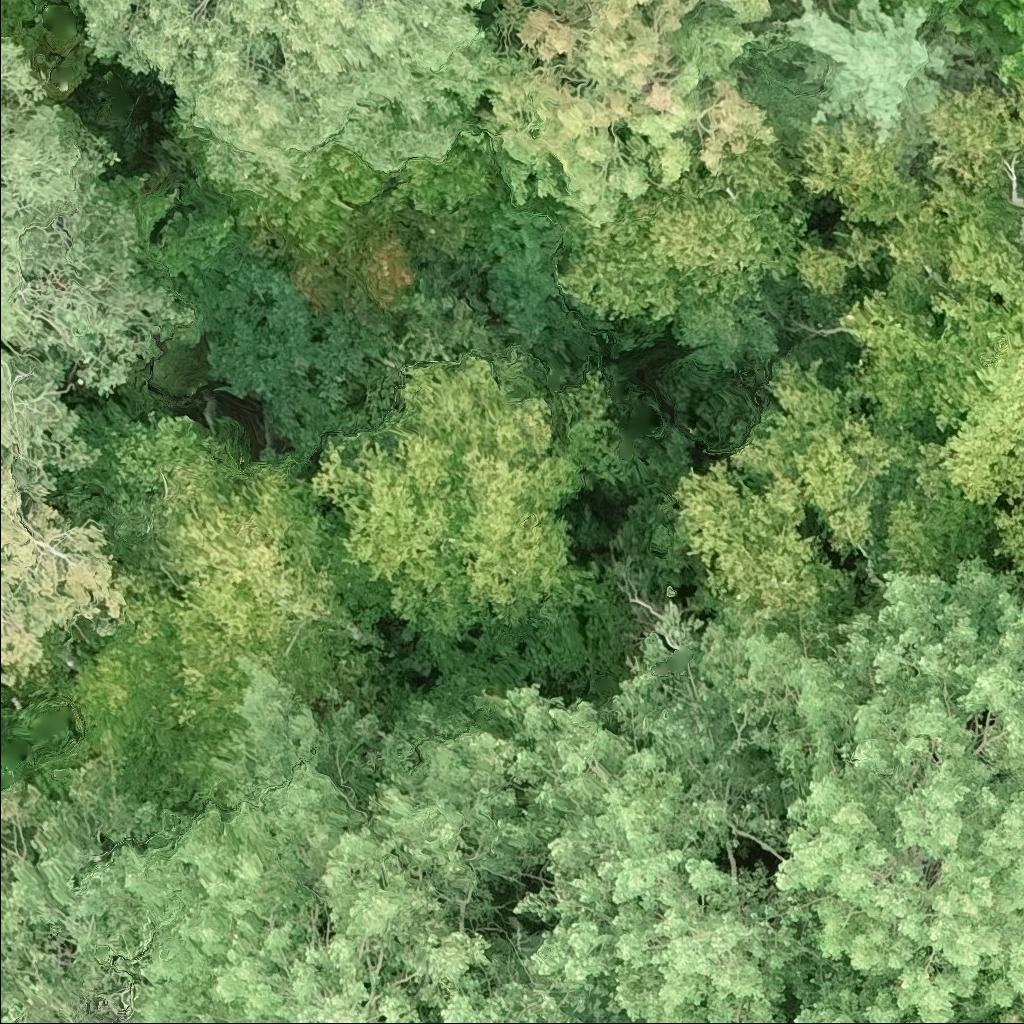crown: (118, 659, 545, 1023), (695, 551, 1023, 1023), (39, 402, 399, 823), (480, 585, 818, 1023), (0, 760, 185, 1023), (421, 920, 590, 1023), (788, 961, 922, 1023), (995, 1008, 1023, 1023), (958, 1022, 971, 1023)
